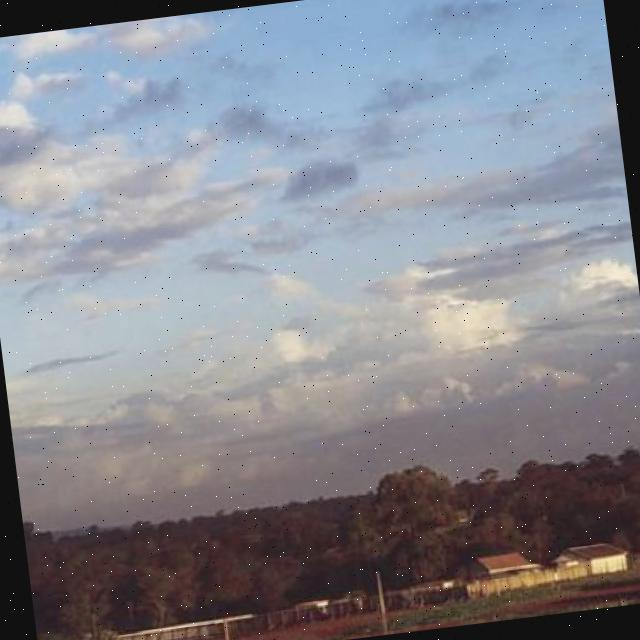Sc: (1, 14, 640, 510)
